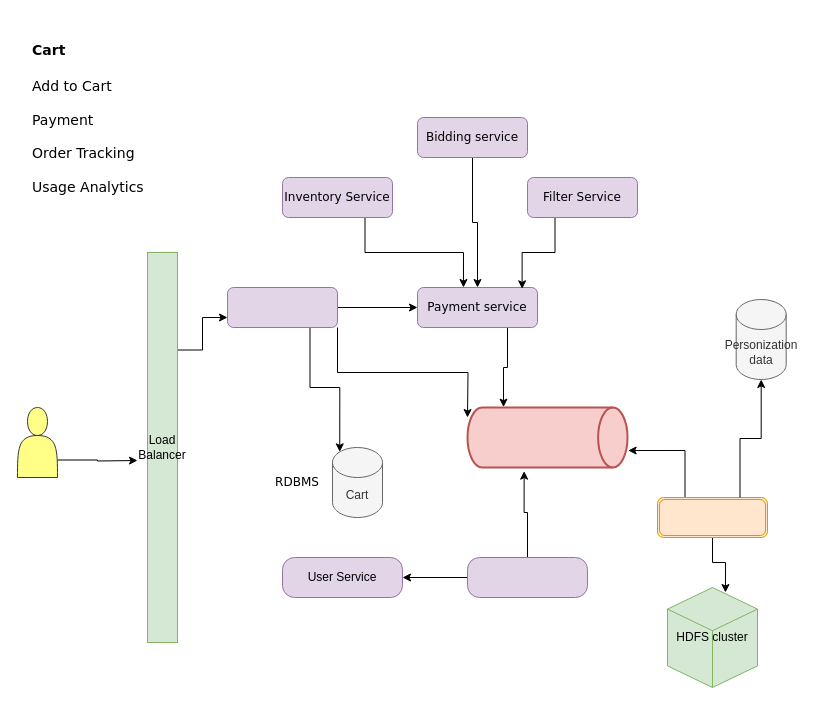
This 815x705 diagram has some shape labels left out. Each missing label, with the box of its shape:
Cart Service: (226, 286, 338, 328)
Message broker (Kafka): (466, 406, 628, 468)
Order Tracking System: (466, 556, 588, 598)
Spark Jobs: (656, 496, 768, 538)
User: (16, 406, 58, 478)
